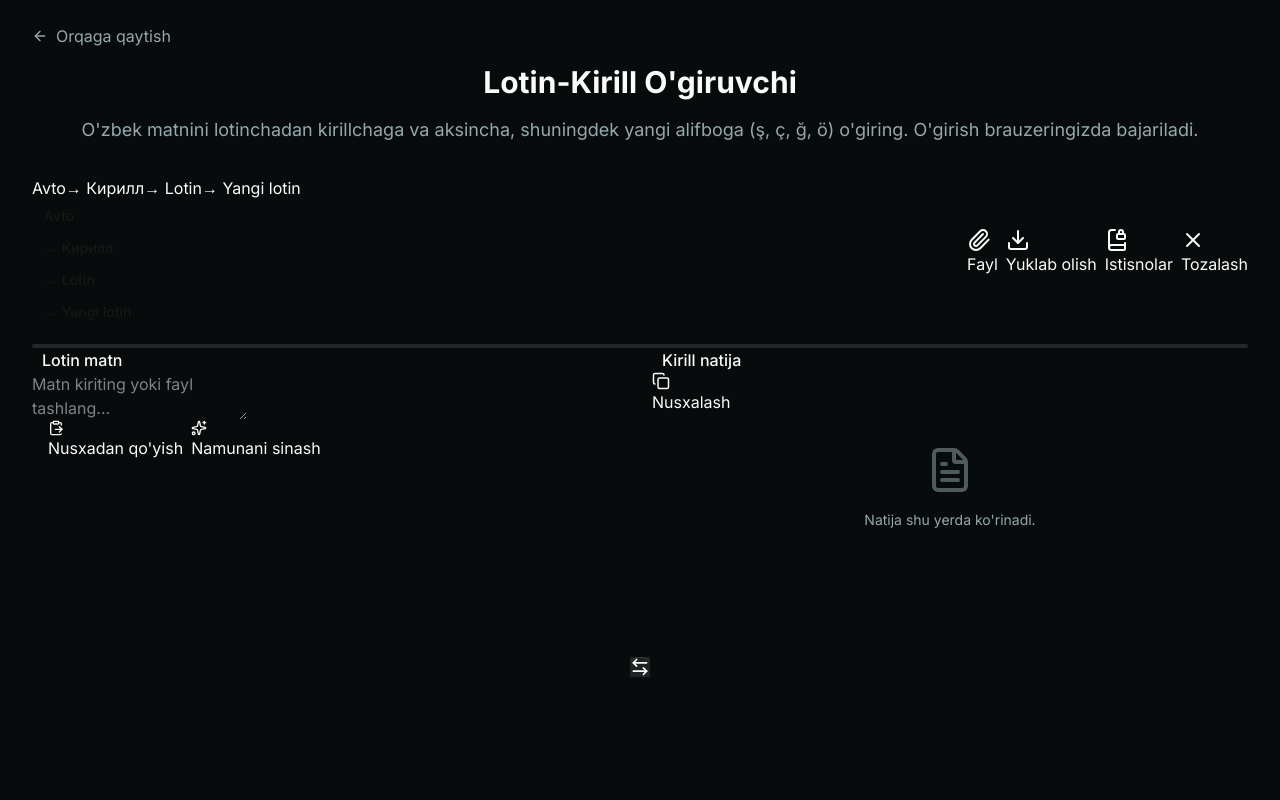
Scenario: LatinCyrillic converter › swap moves the result into the source and pins the way back
The width and height of the screenshot is (1280, 800).
Type "Salom dunyo" into the text box at (140, 396), box [32,372,247,420]
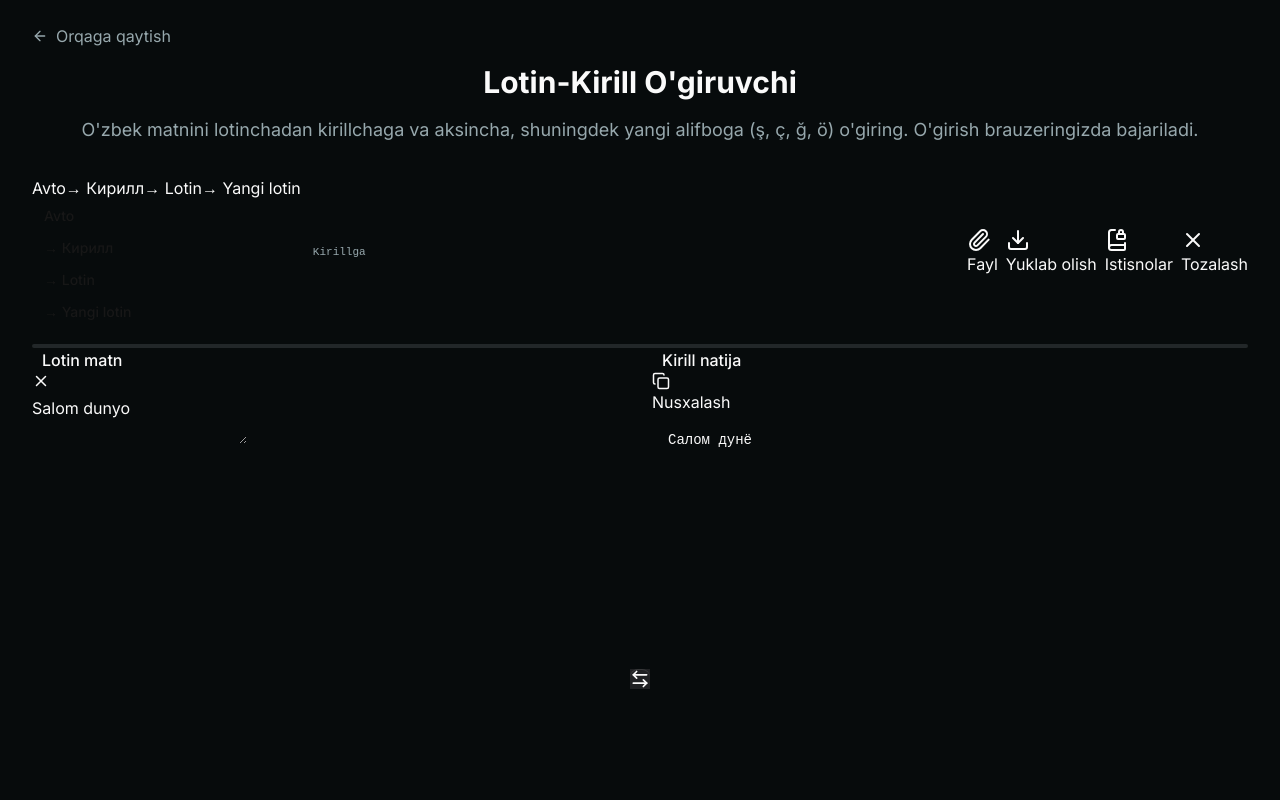
Now the text "Салом дунё" is shown, box [668,432,752,448]
Click the button named "Yo'nalishni almashtirish" at (640, 679), box [630,669,650,689]
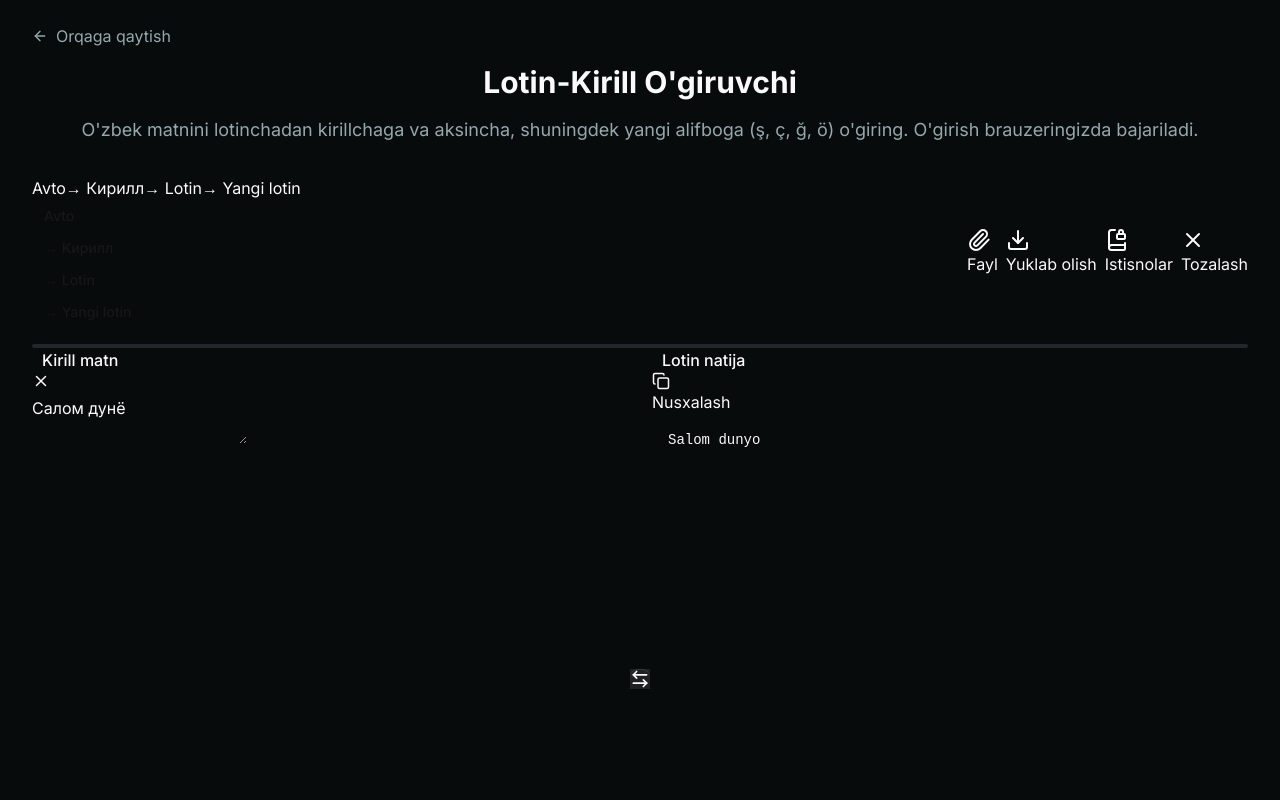
Expected: the radio button labelled "Lotin" is checked, [144,178,202,198]
Now the text box holds "Салом дунё", box [32,396,247,444]
Now the text "Salom dunyo" is shown, box [668,432,760,448]
